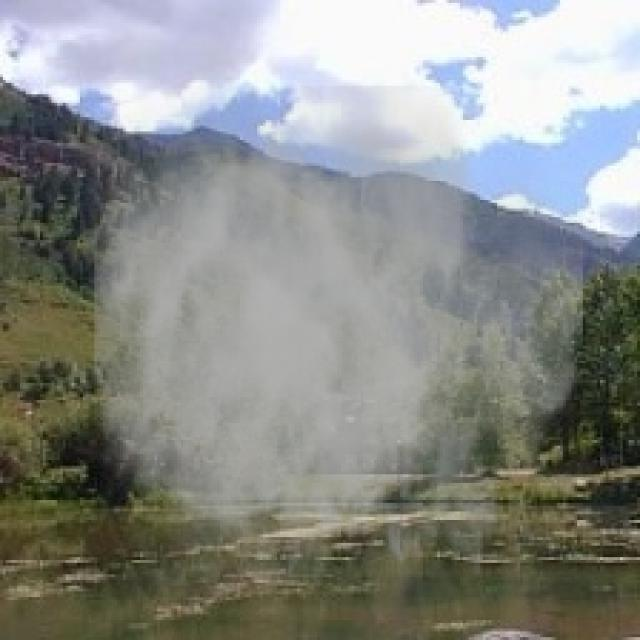smoke: (63, 86, 583, 628)
